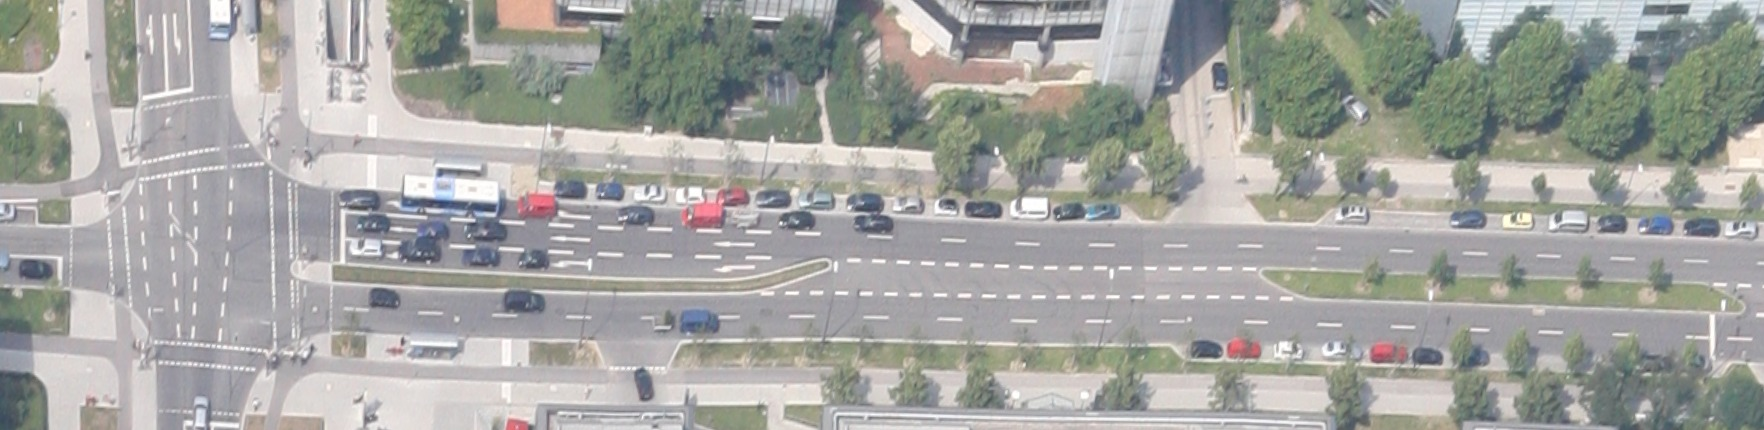car: (1336, 92, 1370, 125), (679, 204, 721, 229), (517, 192, 555, 220), (399, 239, 440, 262), (1547, 208, 1586, 232), (850, 212, 892, 233), (679, 308, 717, 332), (1009, 196, 1046, 220), (337, 188, 378, 209), (463, 221, 506, 241), (503, 292, 544, 312), (1321, 340, 1361, 360), (631, 366, 654, 402), (461, 245, 498, 266), (367, 287, 399, 310), (349, 236, 382, 258), (798, 189, 831, 210), (616, 205, 652, 224), (1370, 343, 1406, 362), (1682, 217, 1718, 236), (1637, 215, 1672, 234), (18, 259, 51, 279), (355, 213, 388, 233), (778, 210, 814, 229), (964, 199, 1000, 217), (846, 192, 882, 210), (756, 188, 787, 208), (715, 186, 747, 206), (1084, 201, 1119, 220), (1334, 204, 1367, 223), (1450, 210, 1484, 229), (1596, 213, 1626, 233), (1500, 210, 1532, 229), (1412, 344, 1442, 364), (1723, 220, 1755, 238), (633, 183, 665, 201), (517, 250, 548, 268), (1190, 339, 1221, 357), (676, 185, 704, 204), (192, 395, 208, 429), (1227, 340, 1259, 357), (553, 180, 585, 197), (417, 221, 445, 239), (1273, 340, 1302, 358), (1054, 201, 1082, 220), (650, 313, 675, 331), (1212, 62, 1227, 90), (893, 196, 921, 212), (731, 210, 756, 227), (596, 182, 621, 199), (934, 197, 957, 214)
